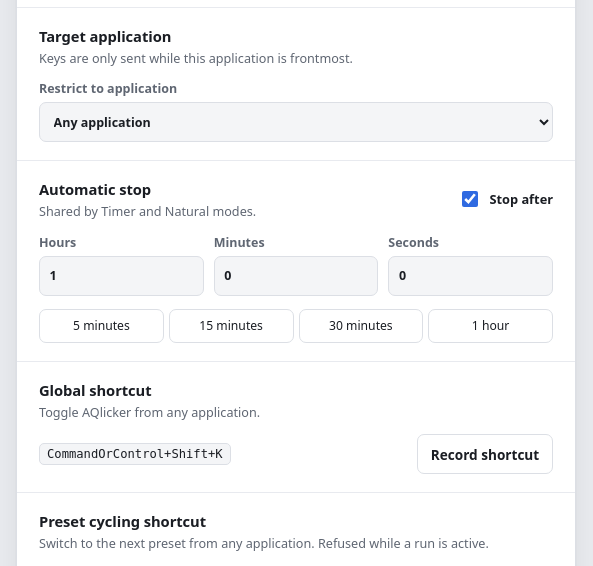
Test: App › keeps the previous shortcut visible when registration conflicts
(page scrolled)
Click the button with aria-label "Record global shortcut" at (485, 454), box [417,434,553,474]
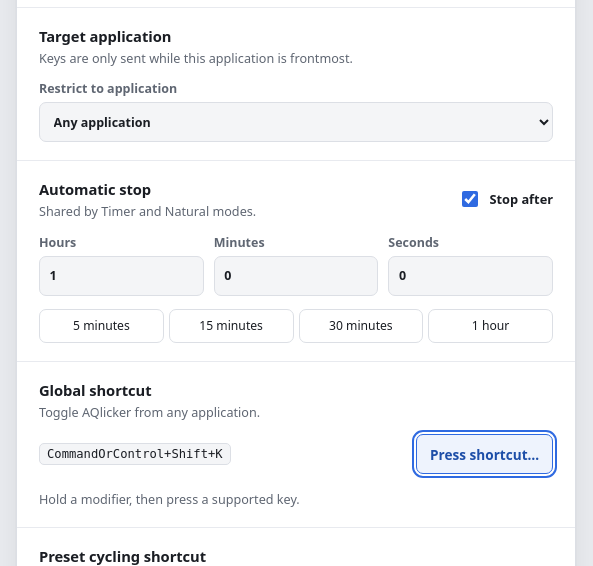
Press j in the button with aria-label "Press global shortcut", box [416,434,553,474]
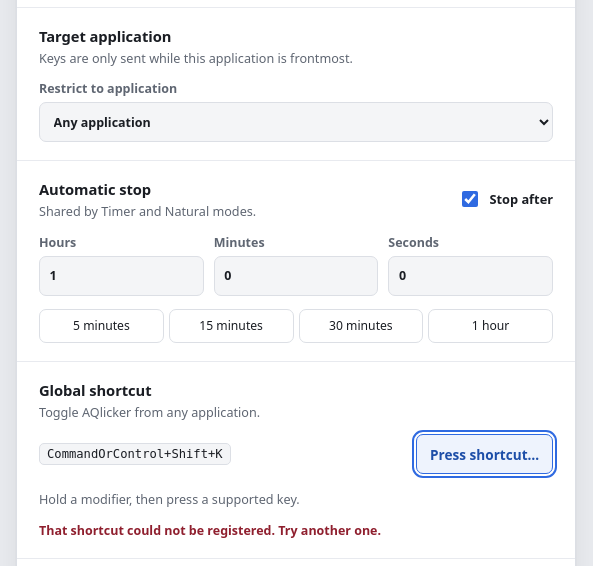
Expected: the text "CommandOrControl+Shift+K" is shown, [39,443,231,465]
Expected: the text "That shortcut could not be registered. Try another one." is shown, [39,522,381,539]
